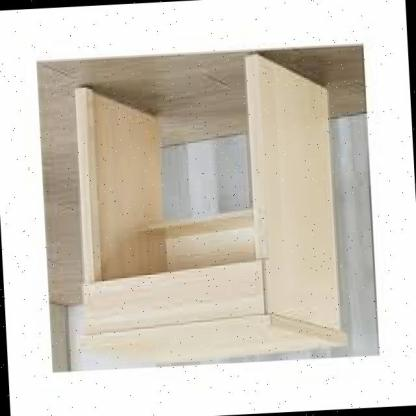Table: (58, 42, 360, 374)
